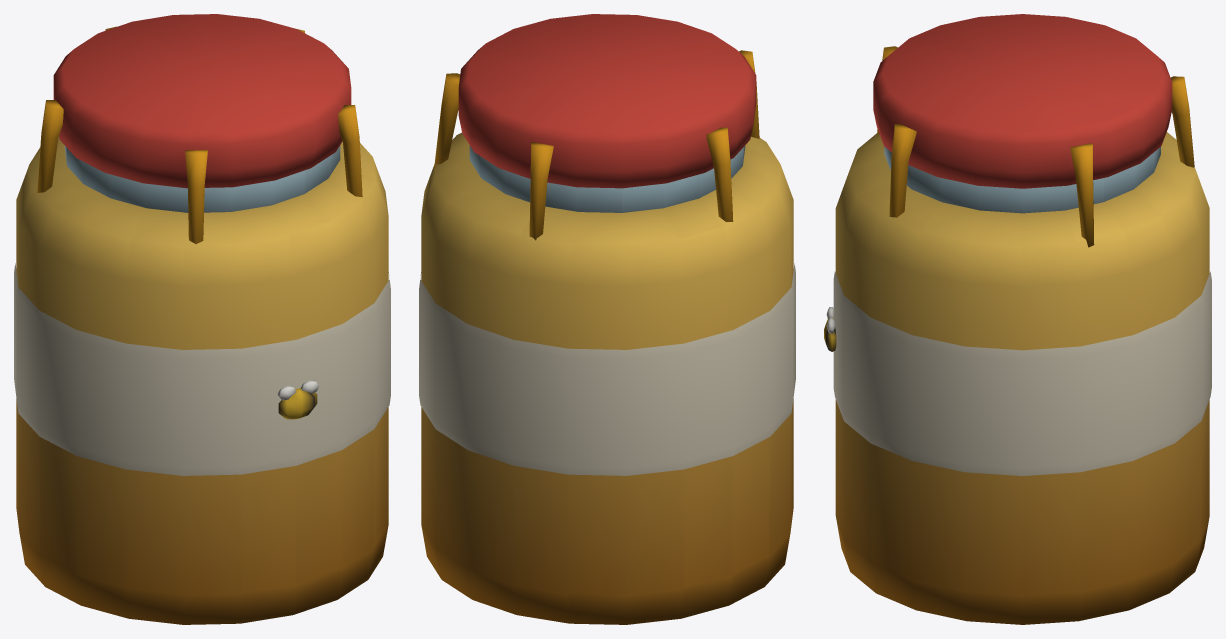
The model's file is prop.honey_jar_giant.glb.
3 renders of one model, left to right at view 1: azimuth 30°, elevation 25°; view 2: azimuth 150°, elevation 25°; view 3: azimuth 270°, elevation 25°, orthographic.
Parts seen in each view (by area): view 1: honey_jar_giant; view 2: honey_jar_giant; view 3: honey_jar_giant.
Part boxes in pixels (x1,y1,x2,y2): honey_jar_giant: [14, 14, 390, 624]; honey_jar_giant: [419, 14, 795, 624]; honey_jar_giant: [824, 14, 1211, 624].
Size of the model in its own units: 4.66 by 6.59 by 4.77.
